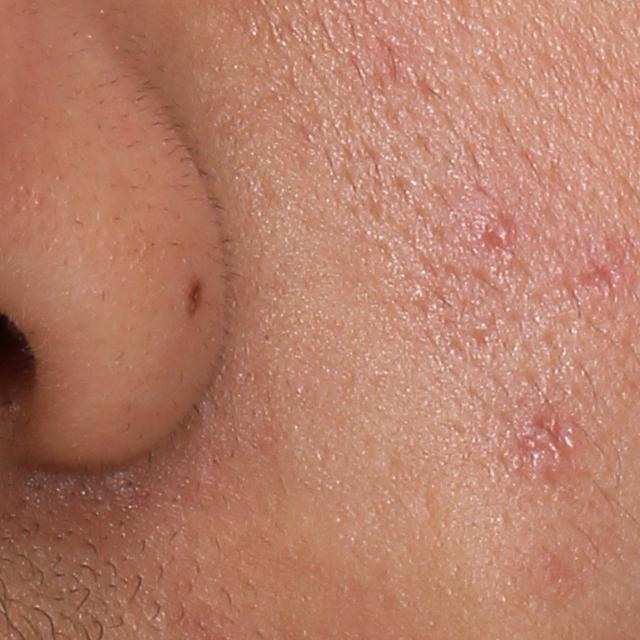papule: (480, 212, 517, 246)
